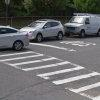Crosswalk: (10, 48, 98, 95)
